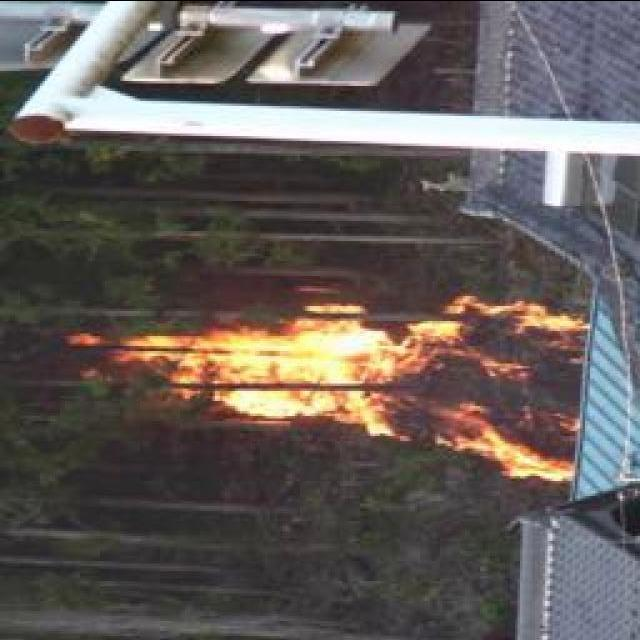Fire: (88, 294, 590, 482)
